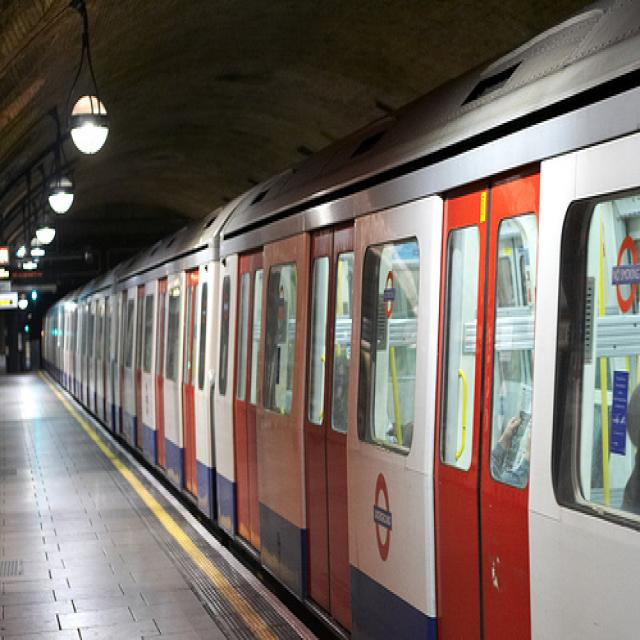train: (42, 3, 640, 639)
